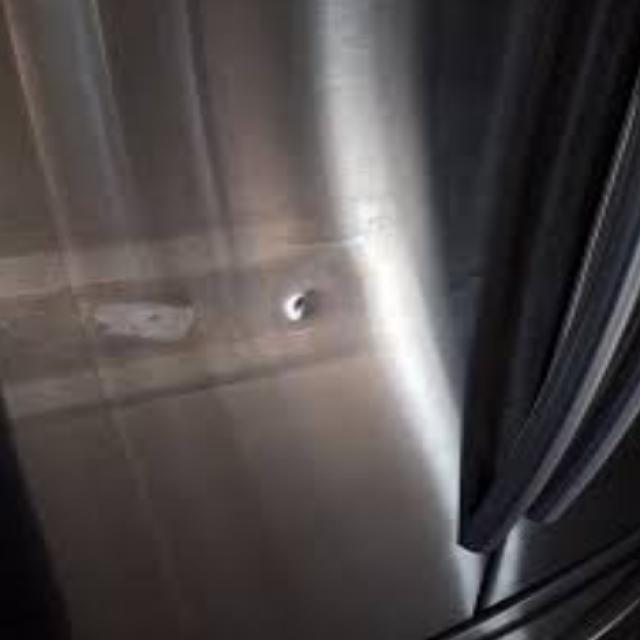dents: (241, 262, 347, 344)
